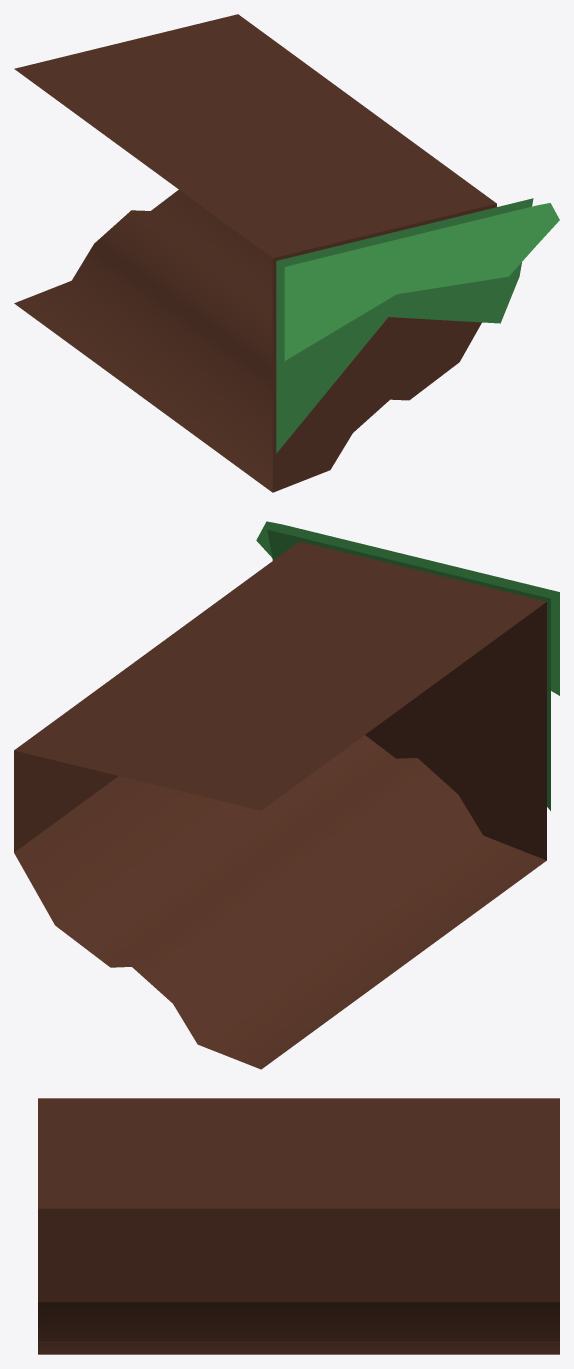
File: Tile_Earth_Plat_Half_Right_001.fbx
The picture shows the model from 3 angles, top to bottom: view 1: azimuth 30°, elevation 25°; view 2: azimuth 150°, elevation 25°; view 3: azimuth 270°, elevation 25°; orthographic projection. The views are drawn at different scales.
Visible parts, largest first — view 1: Environment_Earth_Half; view 2: Environment_Earth_Half; view 3: Environment_Earth_Half.
Boxes of the visible parts, left/top/right/bottom form: Environment_Earth_Half: left=14, top=14, right=559, bottom=492; Environment_Earth_Half: left=14, top=521, right=559, bottom=1069; Environment_Earth_Half: left=38, top=1098, right=559, bottom=1354.
Size of the model in its own units: 61.41 by 50 by 105.
